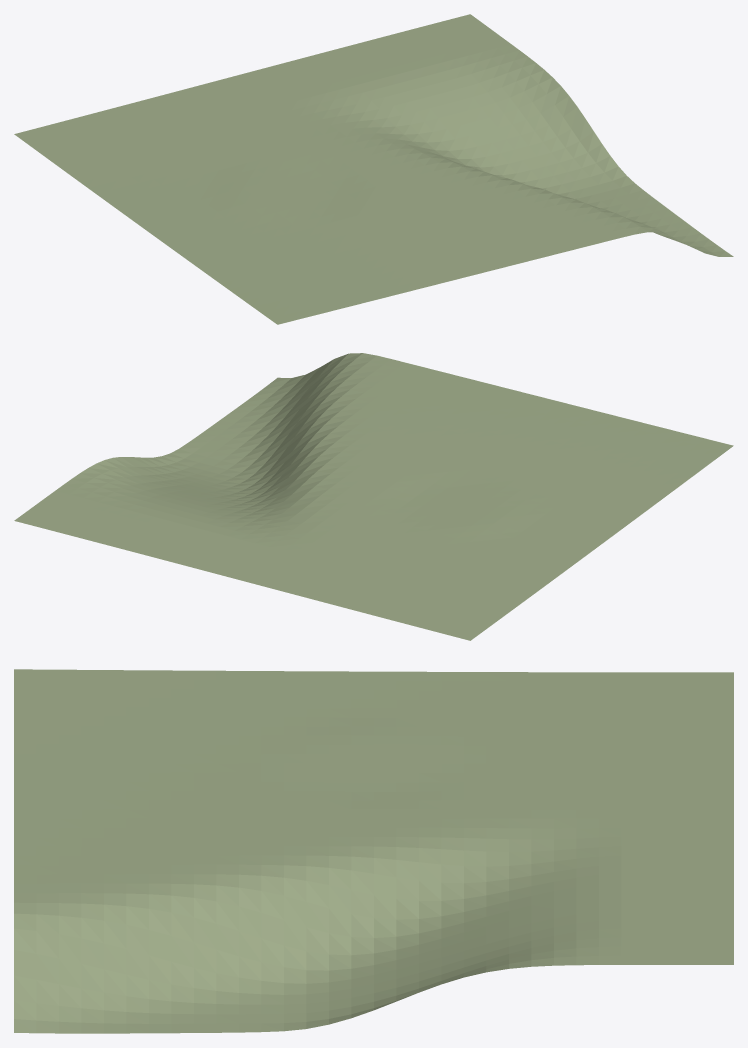
The model's file is lunar-4-0.glb.
The picture shows the model from 3 angles, top to bottom: view 1: azimuth 30°, elevation 25°; view 2: azimuth 150°, elevation 25°; view 3: azimuth 270°, elevation 25°; orthographic projection. The views are drawn at different scales.
Visible parts, largest first — view 1: lunar-4-0; view 2: lunar-4-0; view 3: lunar-4-0.
Boxes of the visible parts, left/top/right/bottom form: lunar-4-0: left=14, top=14, right=733, bottom=324; lunar-4-0: left=14, top=353, right=733, bottom=640; lunar-4-0: left=14, top=669, right=733, bottom=1033.
Size of the model in its own units: 128 by 13.49 by 128.
